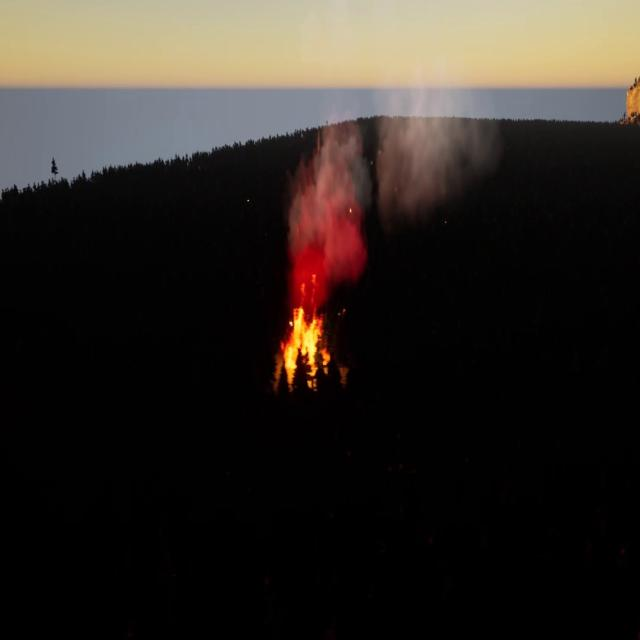fire: (280, 300, 333, 374)
smoke: (378, 79, 501, 221), (286, 114, 372, 300)
